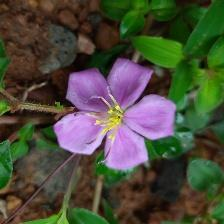malabar melastome: (54, 57, 178, 175)
